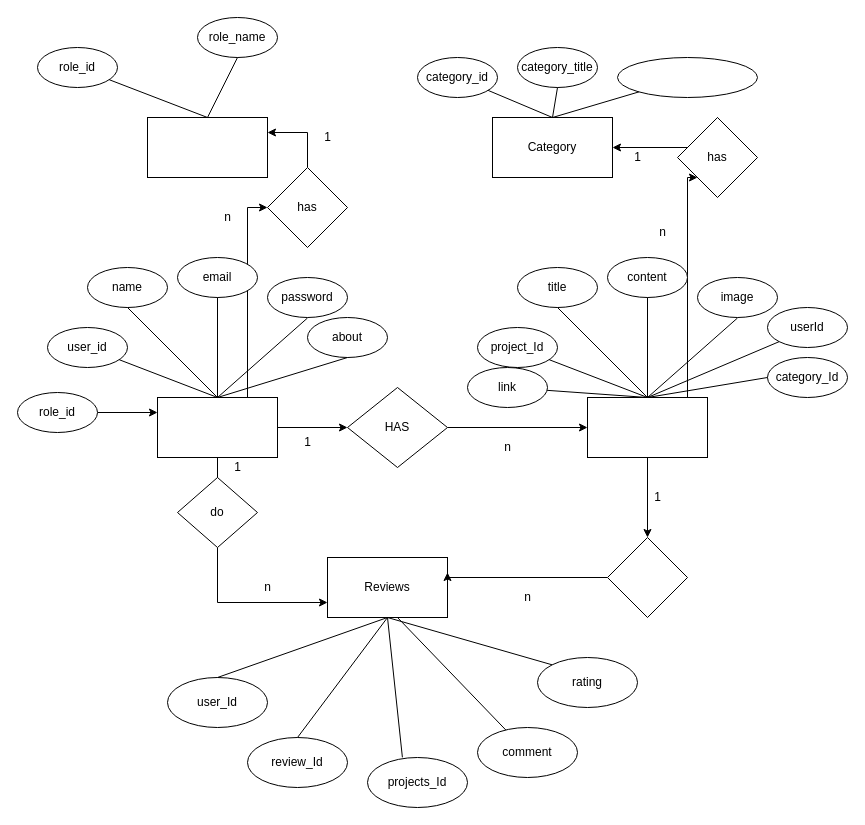
Image size: 865x825. Some labels were removed from this diagram. Each missing label, with the centre of its shape:
"category_description" belongs at (x=687, y=77).
"have" belongs at (x=647, y=577).
"Projects" belongs at (x=647, y=427).
"Role" belongs at (x=207, y=147).
"USER" belongs at (x=217, y=427).
